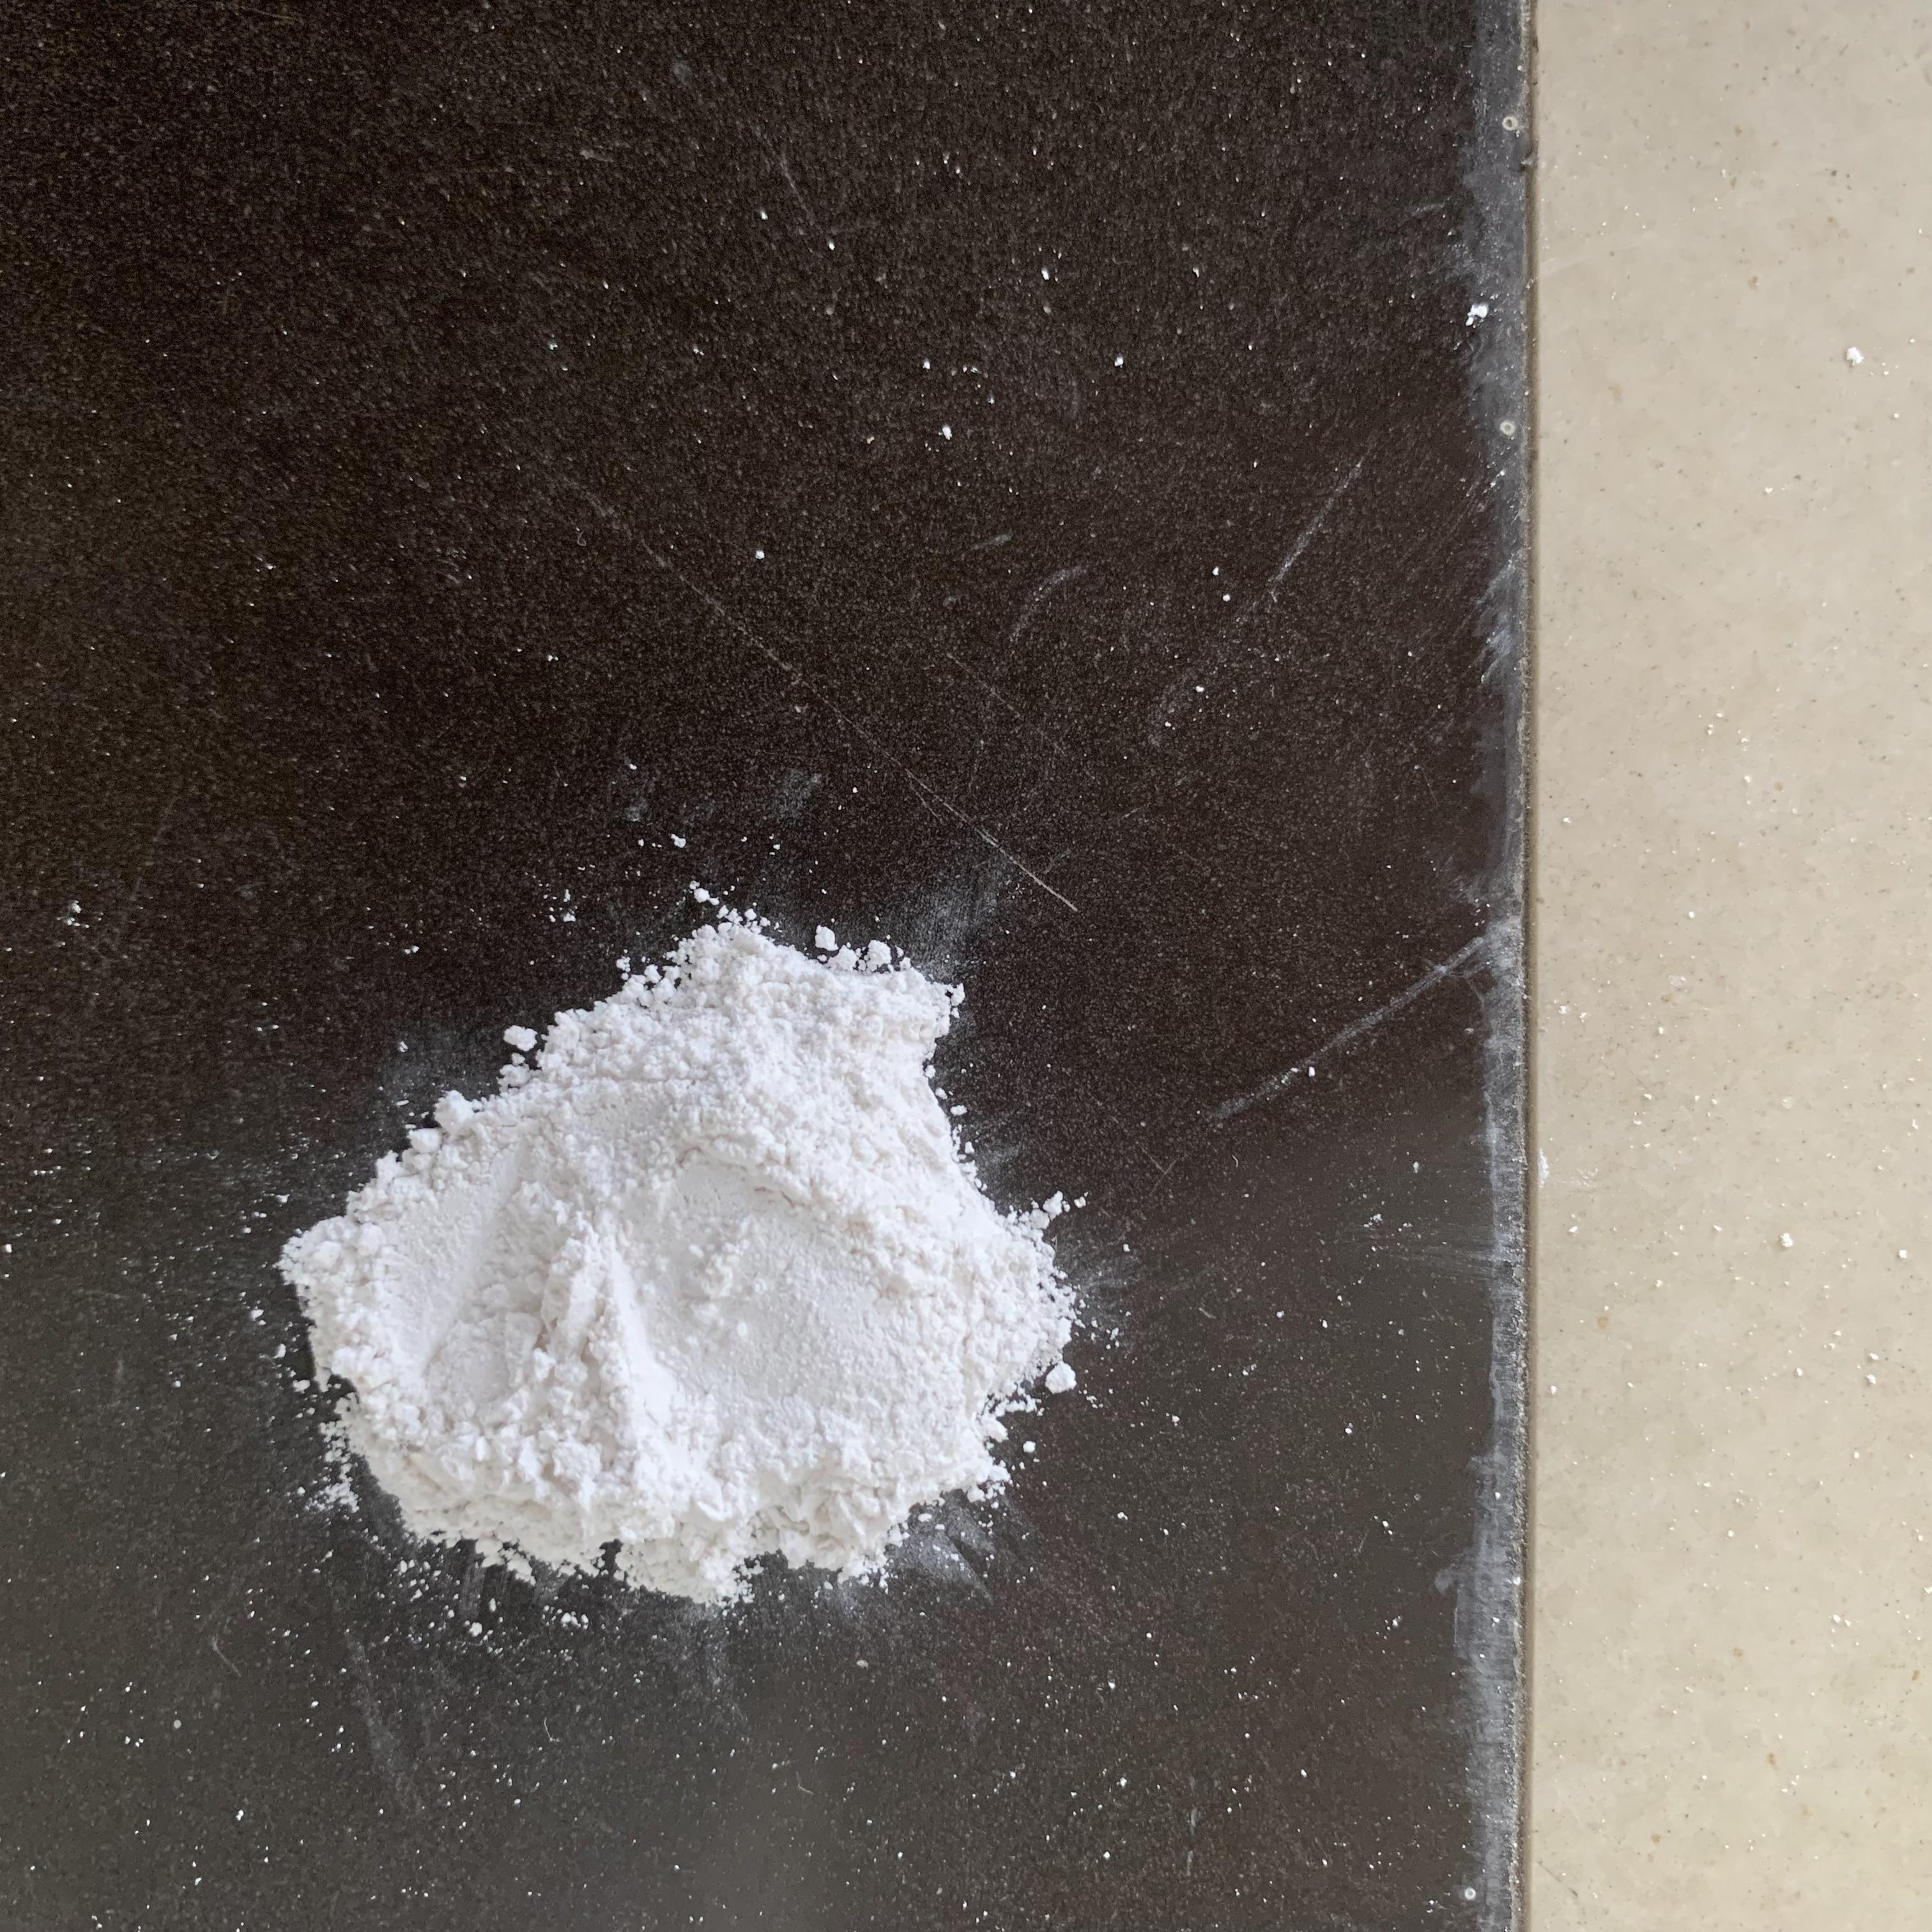ash pile: (272, 913, 1074, 1612)
